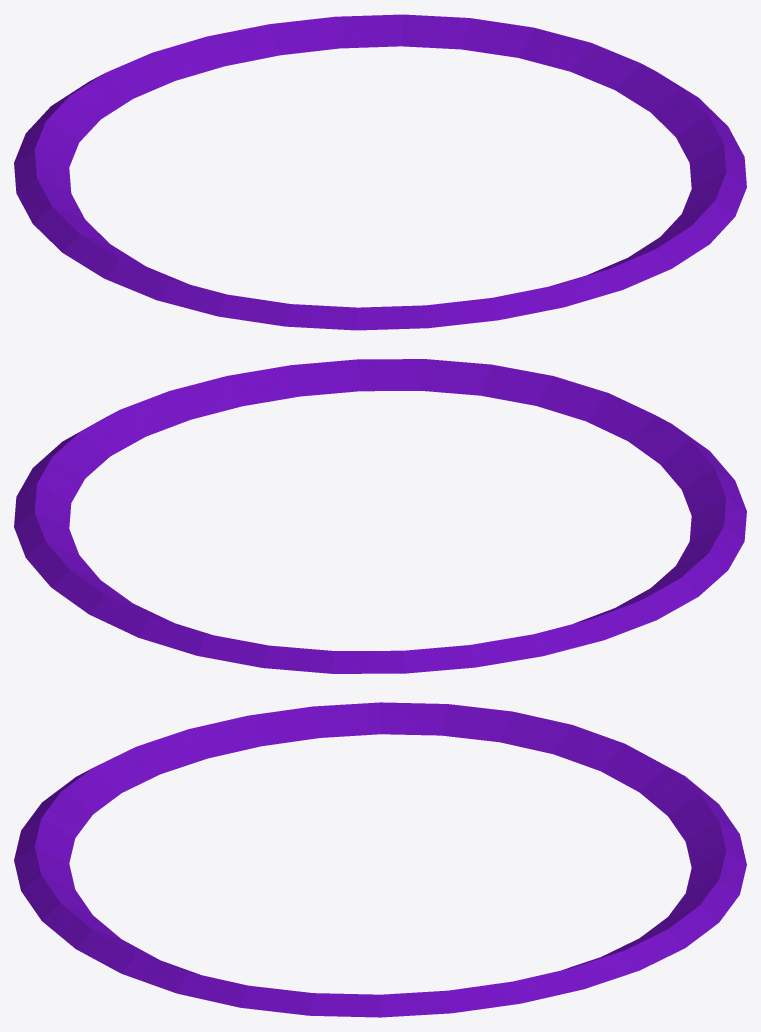
File: SM_shadow_surge_ribbon.fbx
3 renders of one model, top to bottom at view 1: azimuth 30°, elevation 25°; view 2: azimuth 150°, elevation 25°; view 3: azimuth 270°, elevation 25°, orthographic.
Visible parts, largest first — view 1: SM_shadow_surge_ribbon; view 2: SM_shadow_surge_ribbon; view 3: SM_shadow_surge_ribbon.
Boxes of the visible parts, x1,y1,x2,y2 form: SM_shadow_surge_ribbon: (14,14,746,330); SM_shadow_surge_ribbon: (14,359,746,673); SM_shadow_surge_ribbon: (14,702,746,1017).
Bounding box in the file's own units: 2.12 × 2.12 × 0.069.
